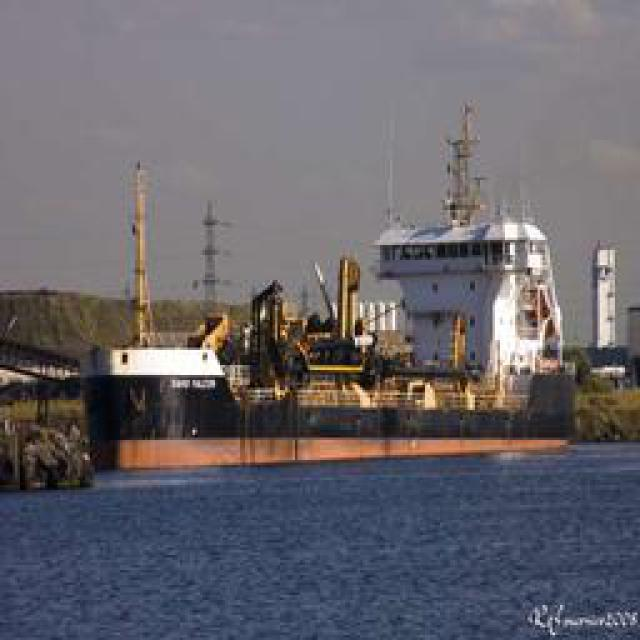Ship: (359, 91, 574, 434)
